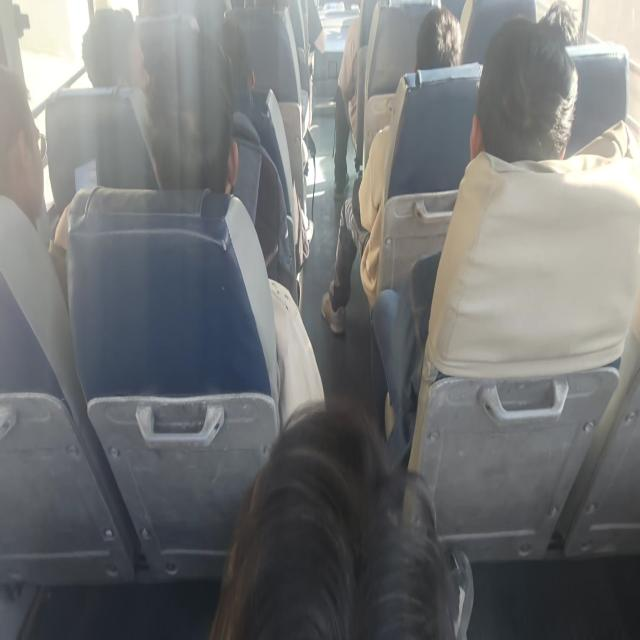person: (226, 398, 491, 624), (478, 21, 582, 161), (138, 57, 240, 180), (0, 76, 76, 209), (69, 13, 148, 94), (213, 16, 274, 100), (412, 12, 467, 74), (546, 6, 576, 46)
